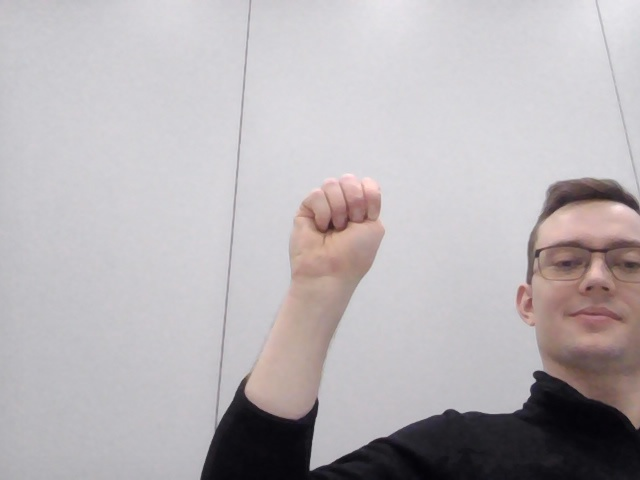down: (265, 162, 401, 307)
